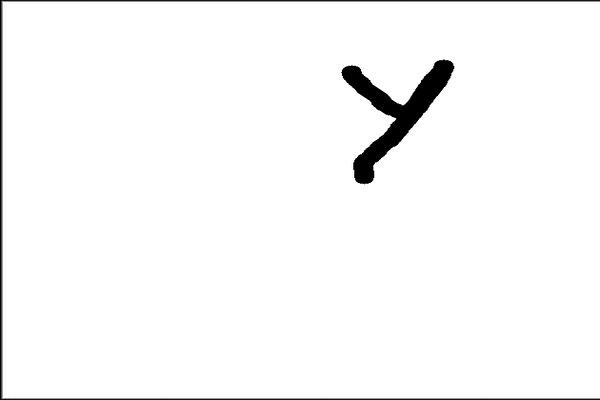Y: (330, 49, 466, 190)
